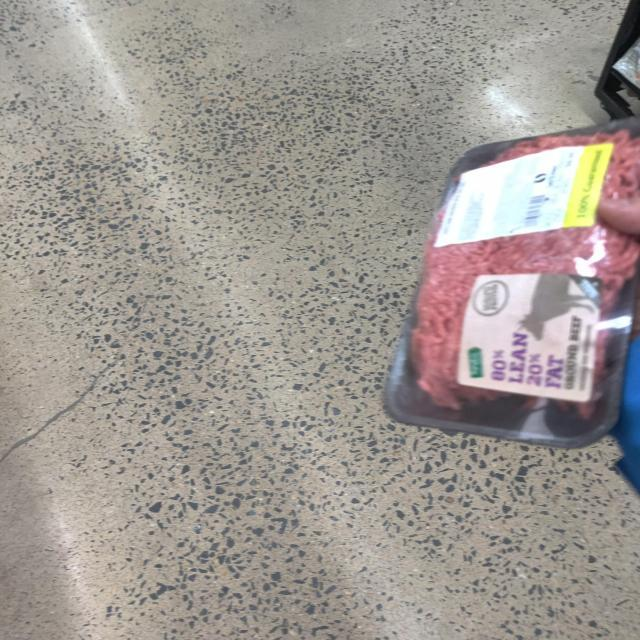Meat: (378, 115, 640, 473)
